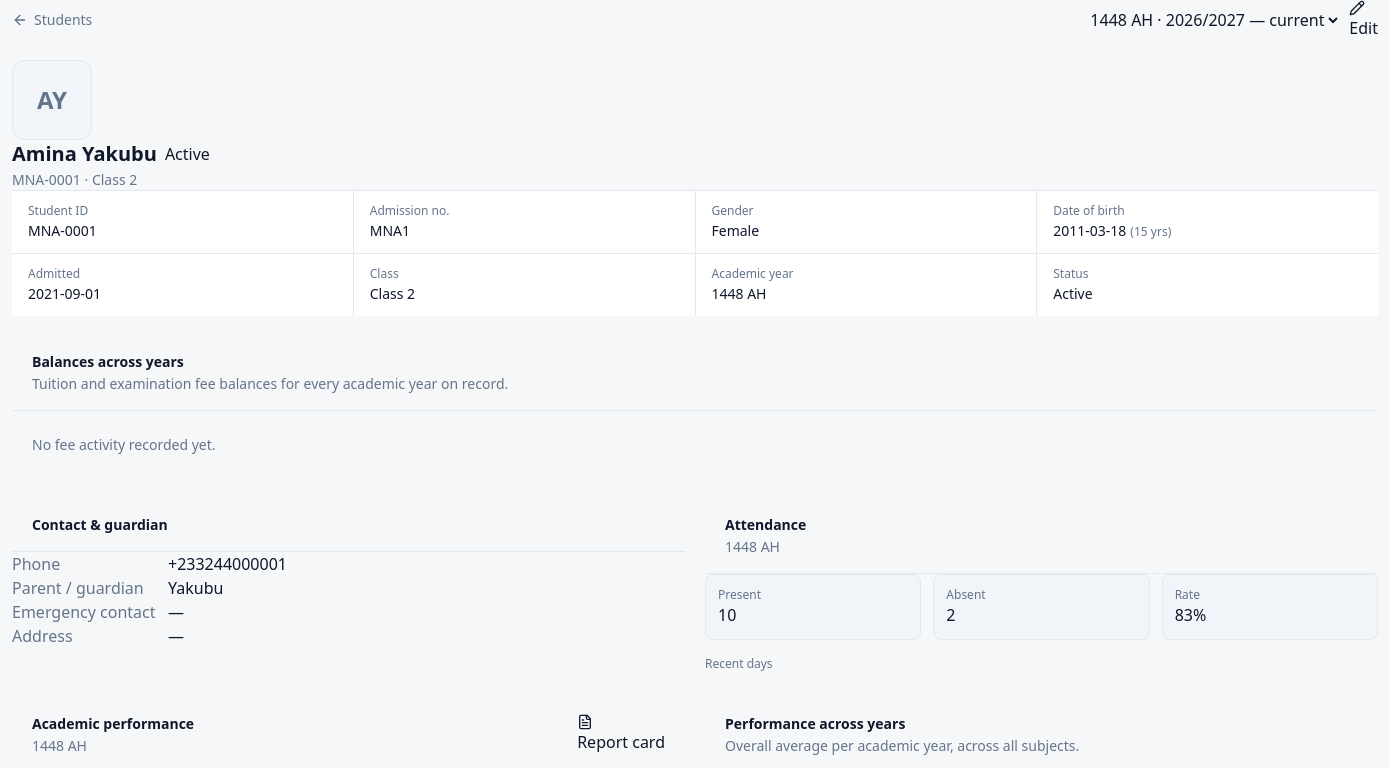
it: Student detail page › switches to a past academic year without touching the global current year
Select "1447 AH · 2025/2026" in the dropdown named "Academic year" at (1214, 20), box left=1086, top=8, right=1341, bottom=32
(page scrolled)
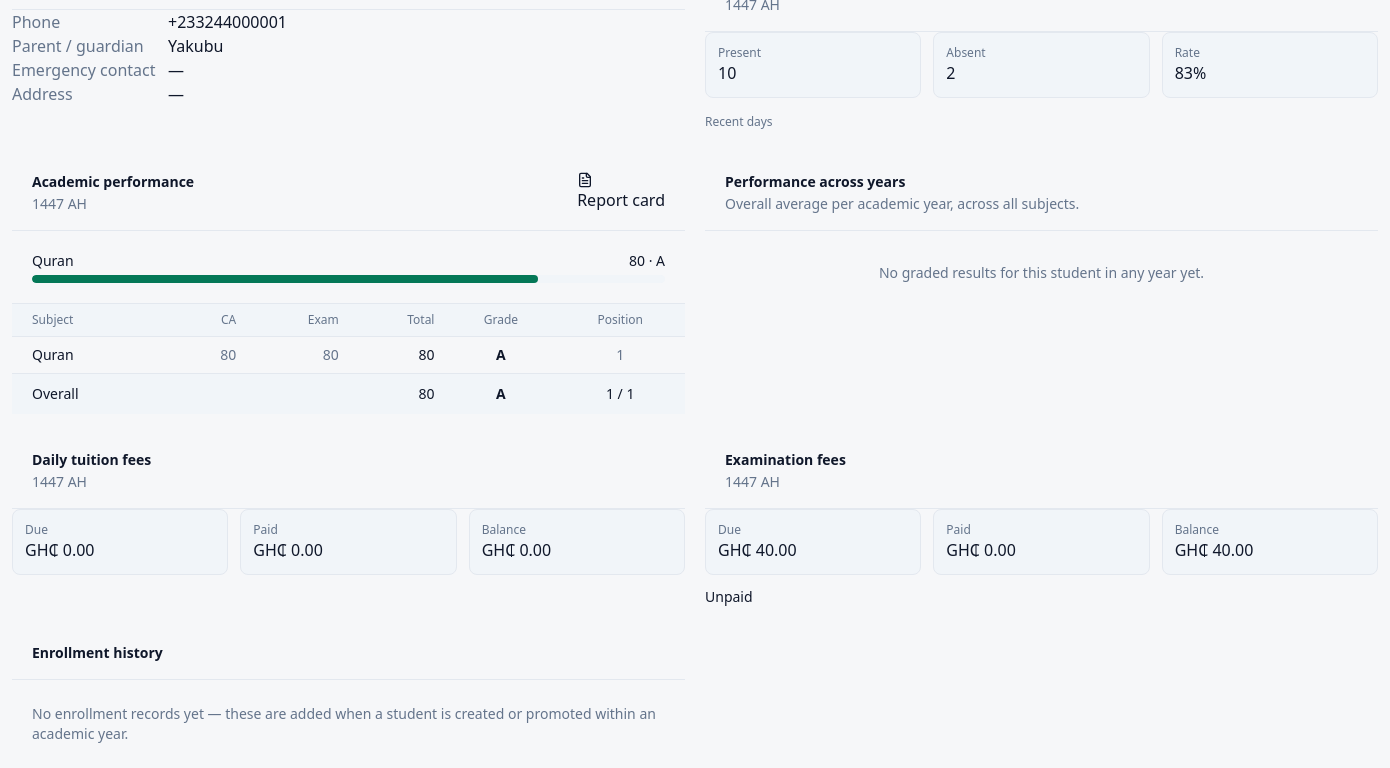
Expected: the text "Unpaid" is shown, left=705, top=587, right=753, bottom=607
